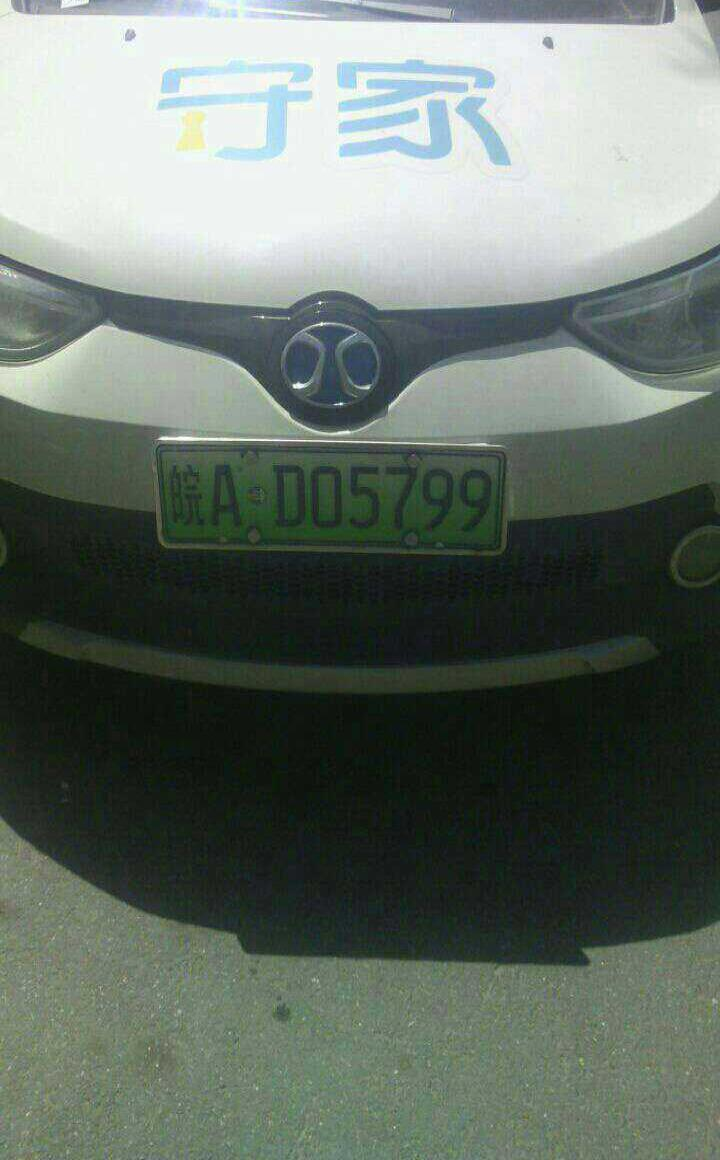car_id: (161, 446, 503, 552)
